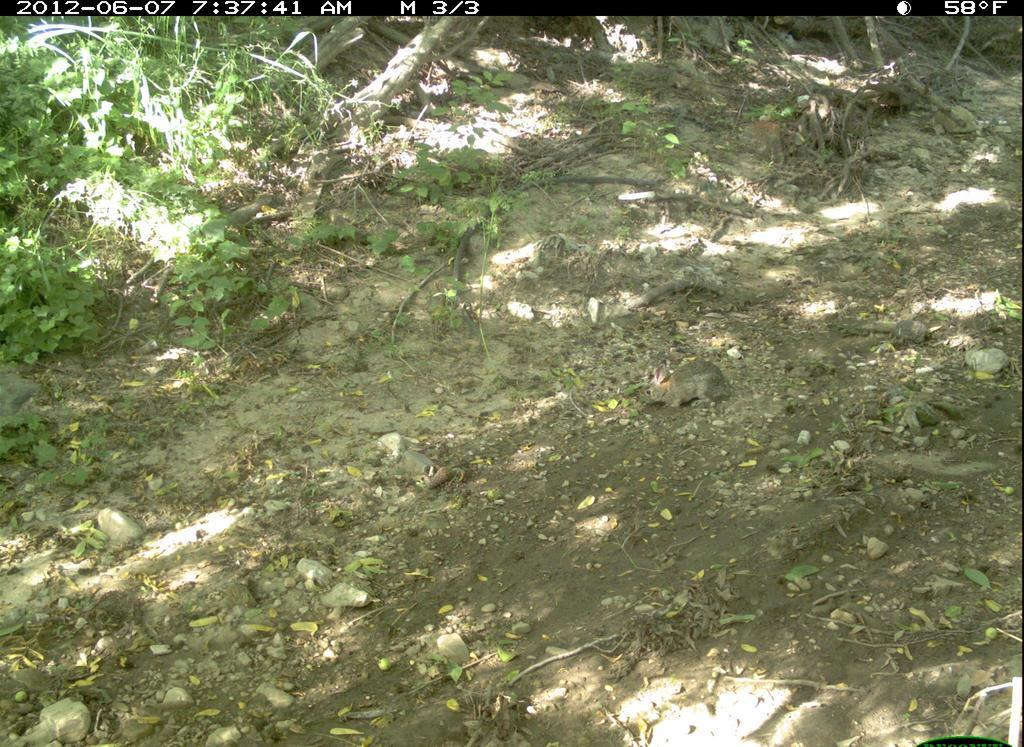rabbit: (637, 344, 738, 420)
